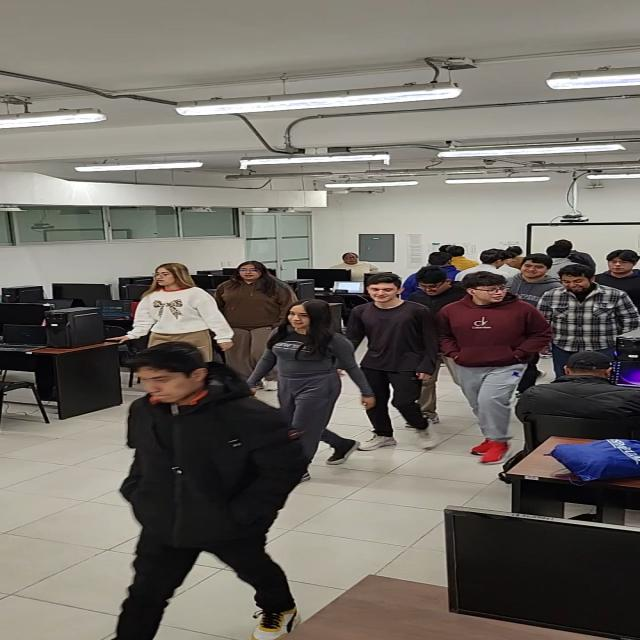Persona: (100, 346, 306, 640), (251, 297, 360, 475), (447, 276, 547, 469), (342, 269, 443, 457), (544, 262, 640, 388), (215, 260, 290, 376), (126, 262, 214, 358)
